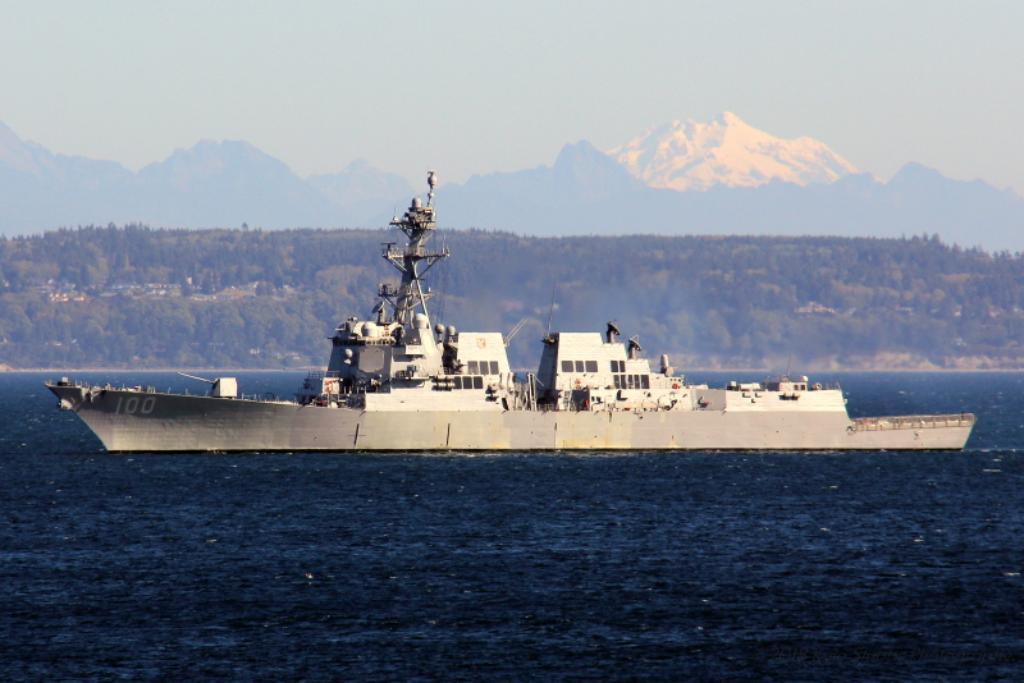Warship: (43, 170, 983, 454)
